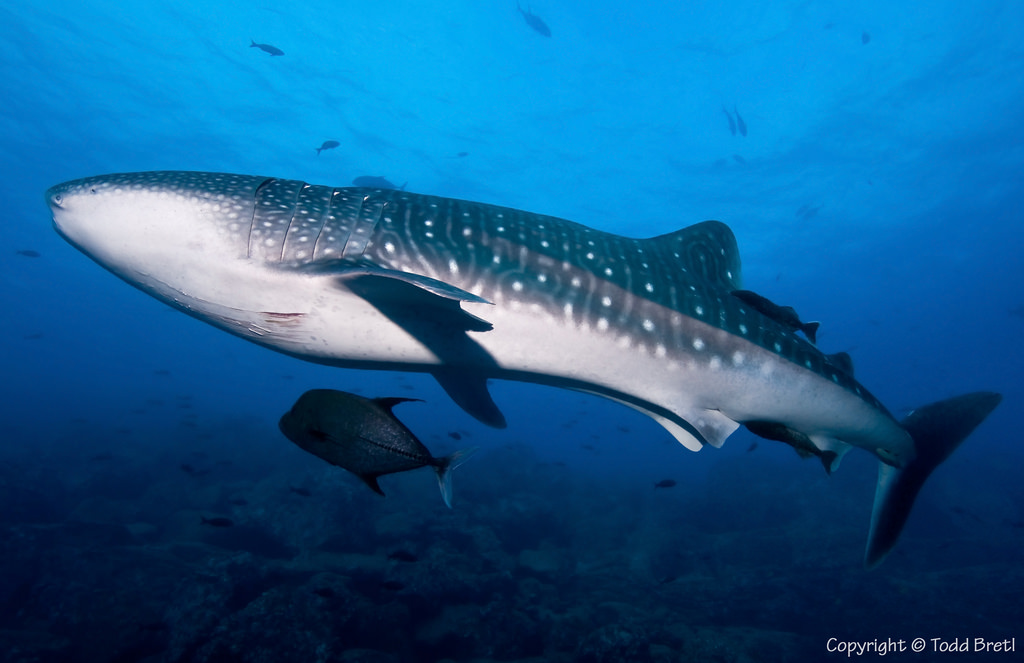Rhincodon_typusw: (34, 120, 956, 578)
